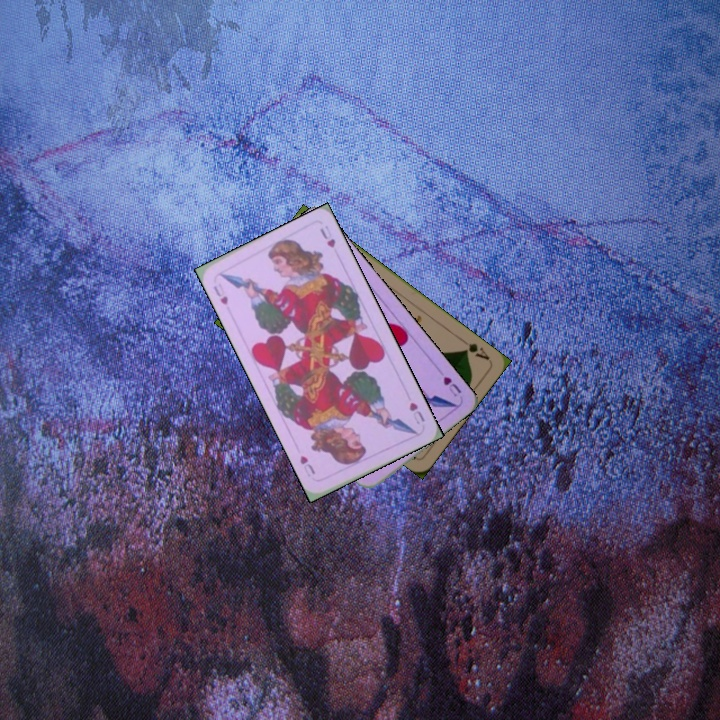GA: (457, 334, 493, 363)
HU: (439, 372, 464, 399), (405, 398, 428, 427), (209, 279, 231, 307)
